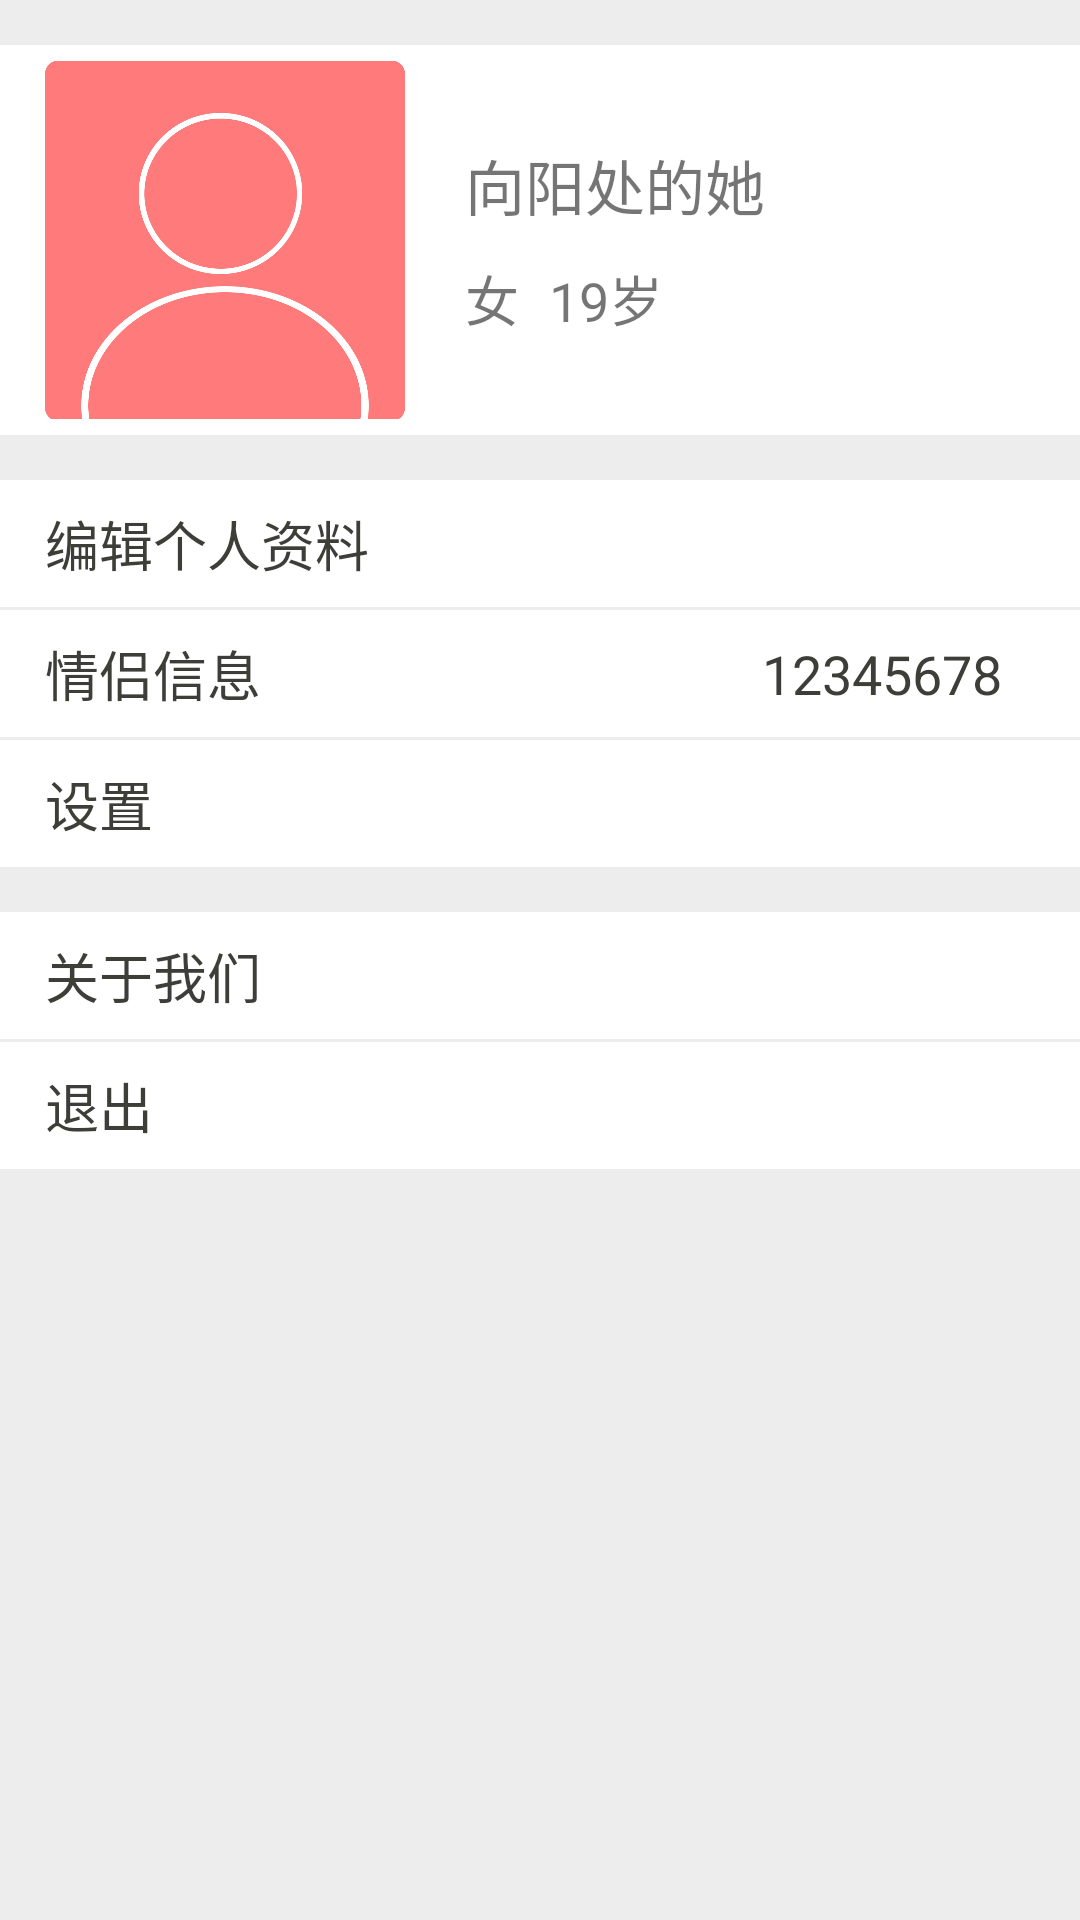

Named icons in this screenshot (1080px×1920px) and their centers, point (x, y):
photo: point (225, 240)
